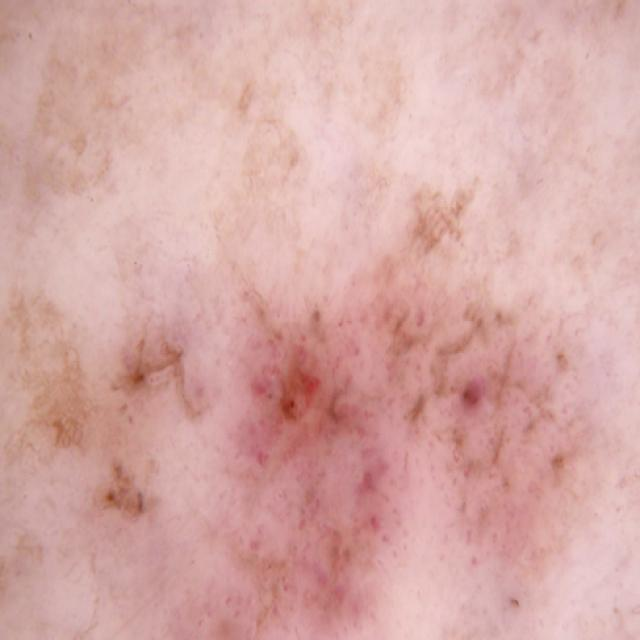Carcinoma: (32, 169, 613, 640)
